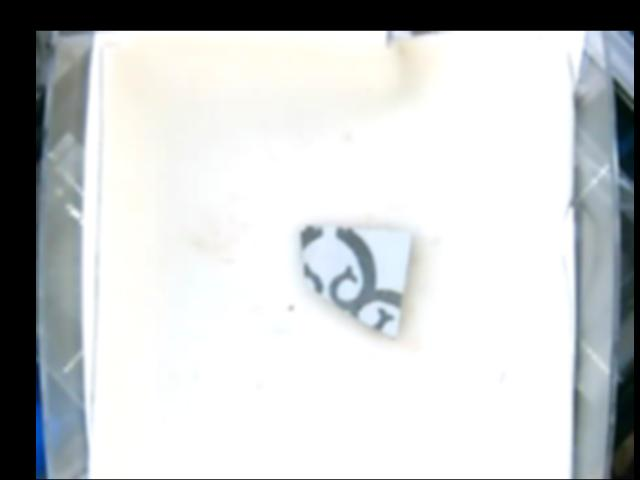China: (302, 224, 411, 338)
